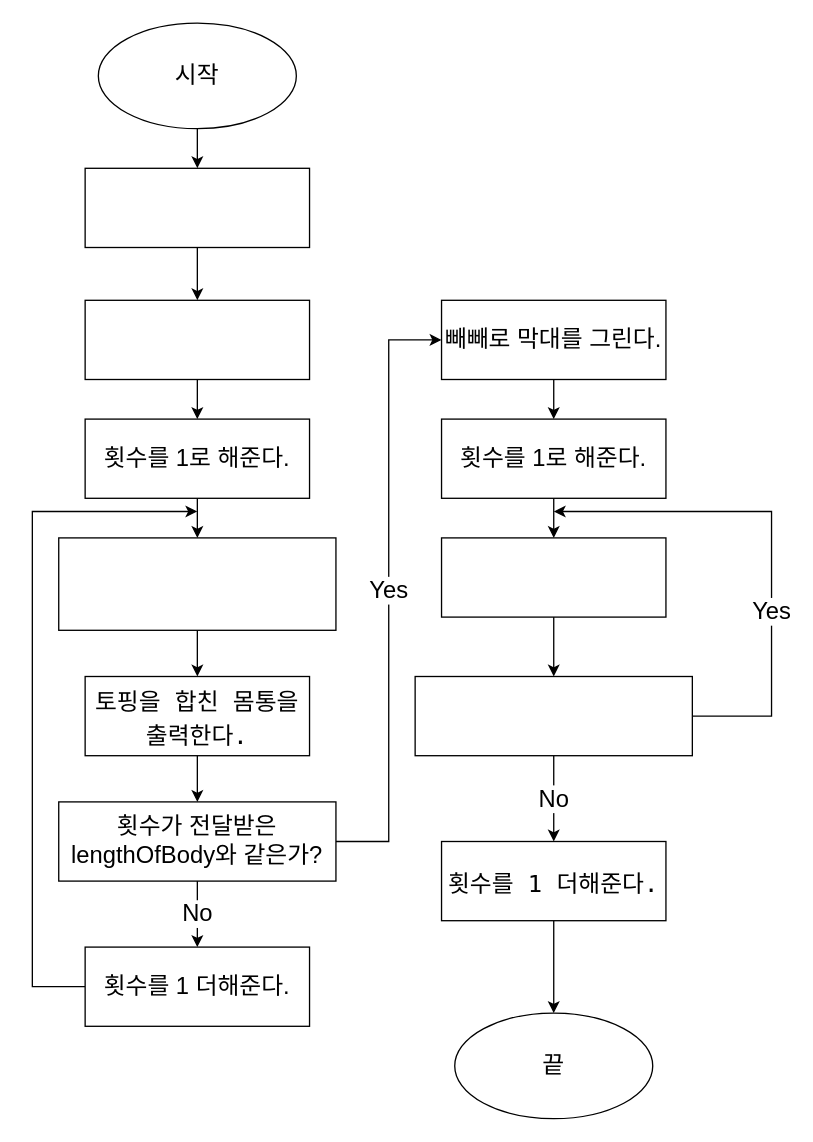
This 813x1142 diagram has some shape labels left out. Each missing label, with the box of its shape:
" | |"를 출력한다.: (440, 537, 666, 617)
빼빼로 몸통을 그린다.: (84, 299, 310, 380)
빼빼로를 그린다.: (84, 167, 310, 248)
전달받은 몸통 양 옆에 전달받은 토핑을 합쳐준다.: (57, 537, 336, 630)
횟수가 전달받은 lengthOfBar와 같은가?: (414, 675, 692, 756)
